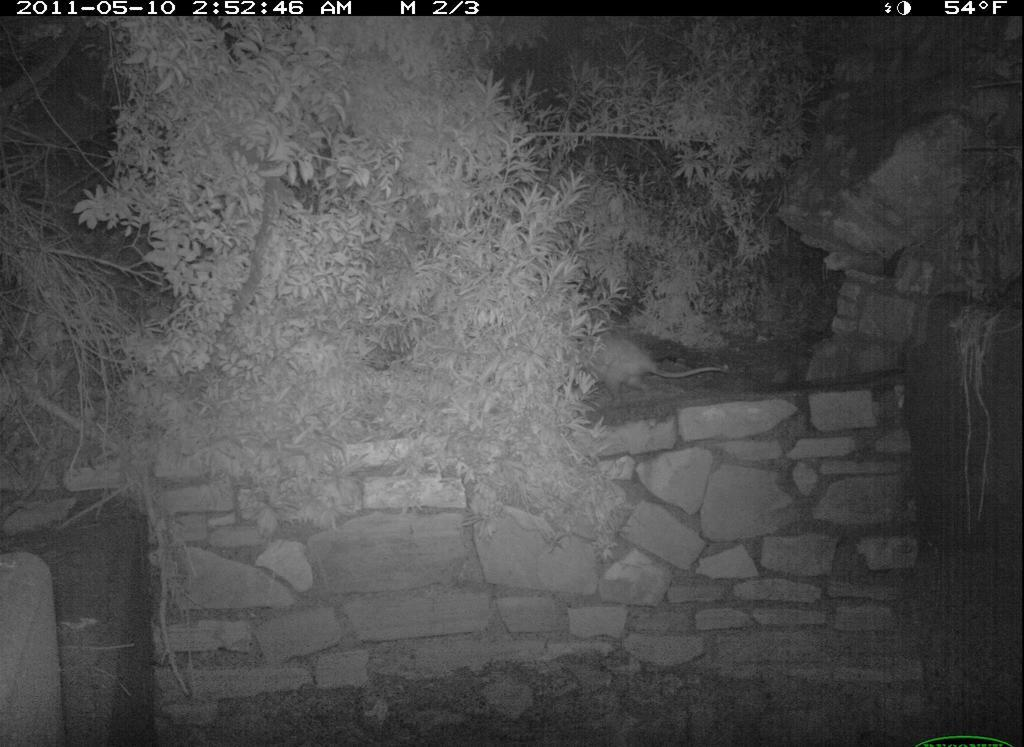opossum: (516, 315, 747, 419)
